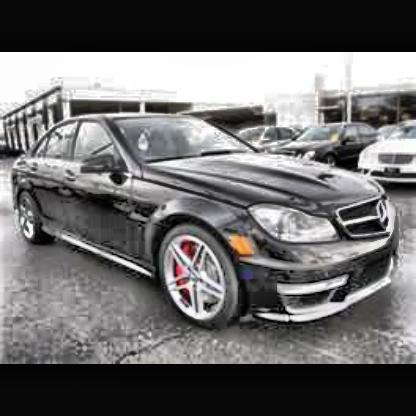Mercedes-Benz C-Class Sedan 2012: (12, 115, 401, 332)
